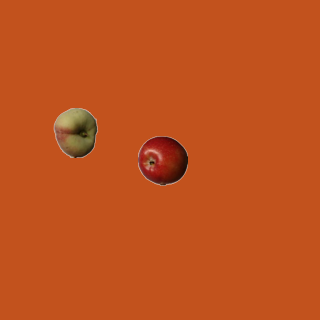Apple Braeburn: (137, 135, 187, 185)
Peach Flat: (50, 107, 100, 157)
